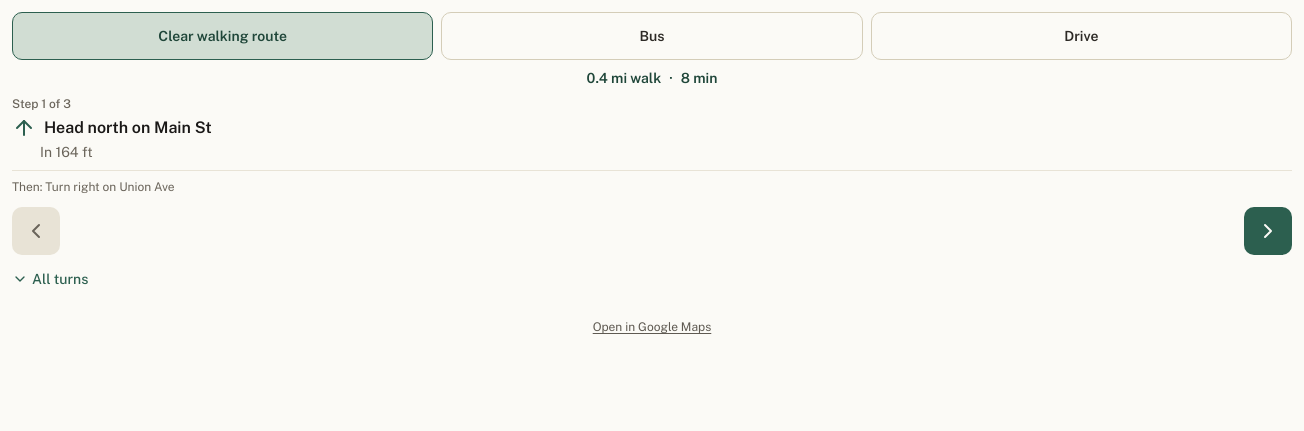
Test case: DirectionButtons — turn-by-turn step list (#134 enhancement) › clicking toggle twice collapses again
The image size is (1304, 431).
Click the button with test id "walk-stepper-all-turns-toggle".
click(50, 279)  # box 12,263 -> 88,295
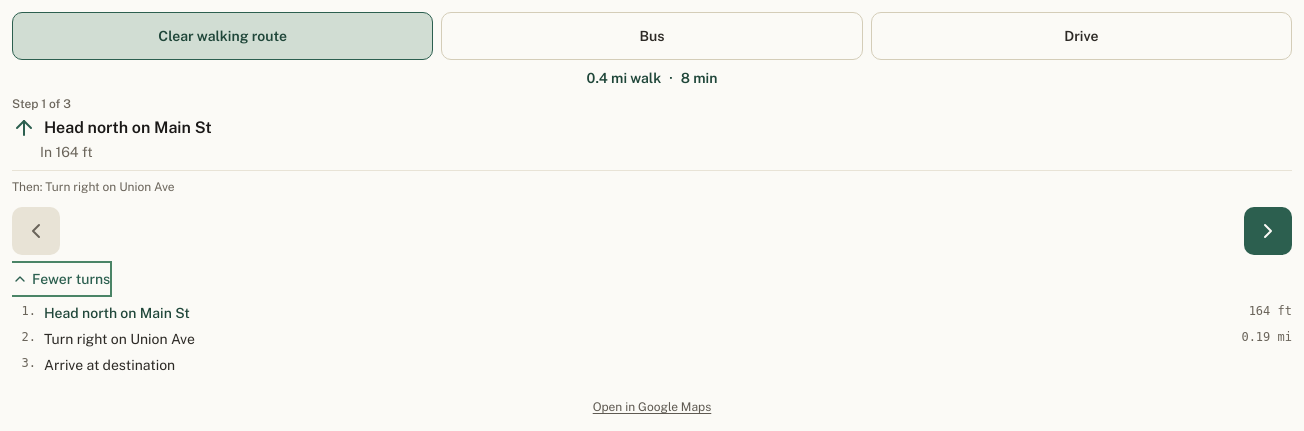
Click the button with test id "walk-stepper-all-turns-toggle".
click(61, 279)  # box 12,263 -> 110,295
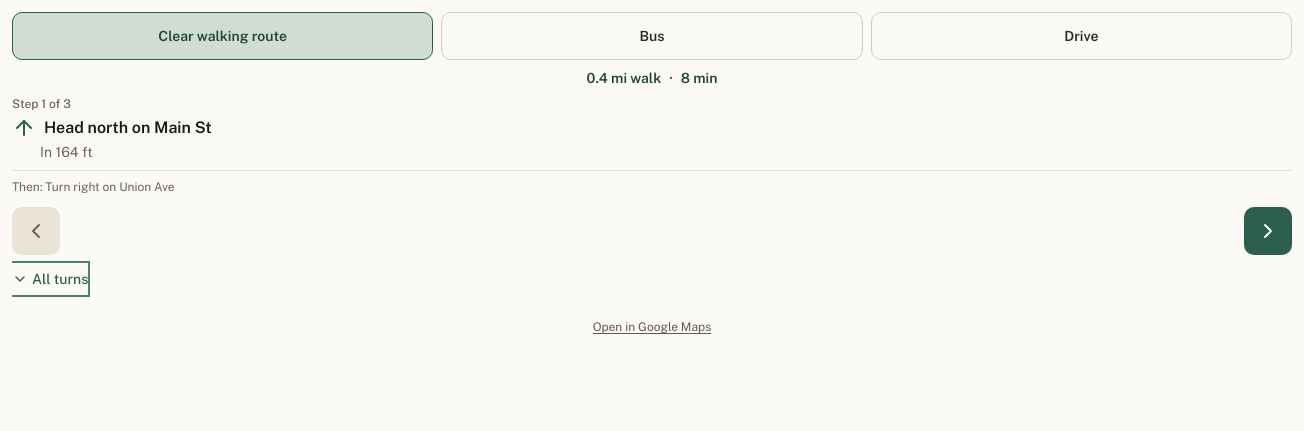
Check: the button with test id "walk-stepper-all-turns-toggle" is collapsed, box 12,263 -> 88,295
